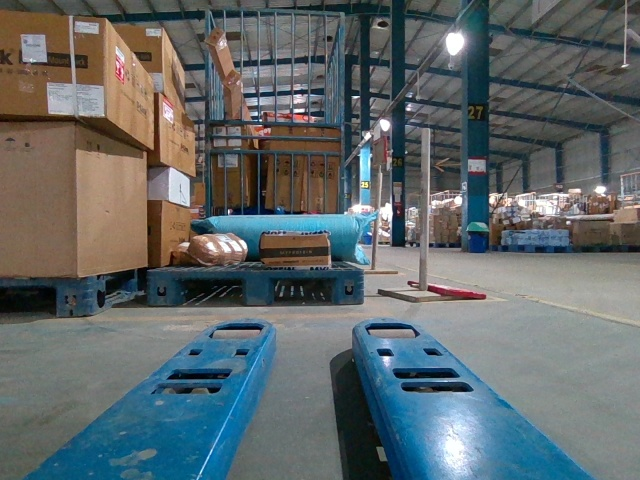pallet: (149, 268, 364, 304)
